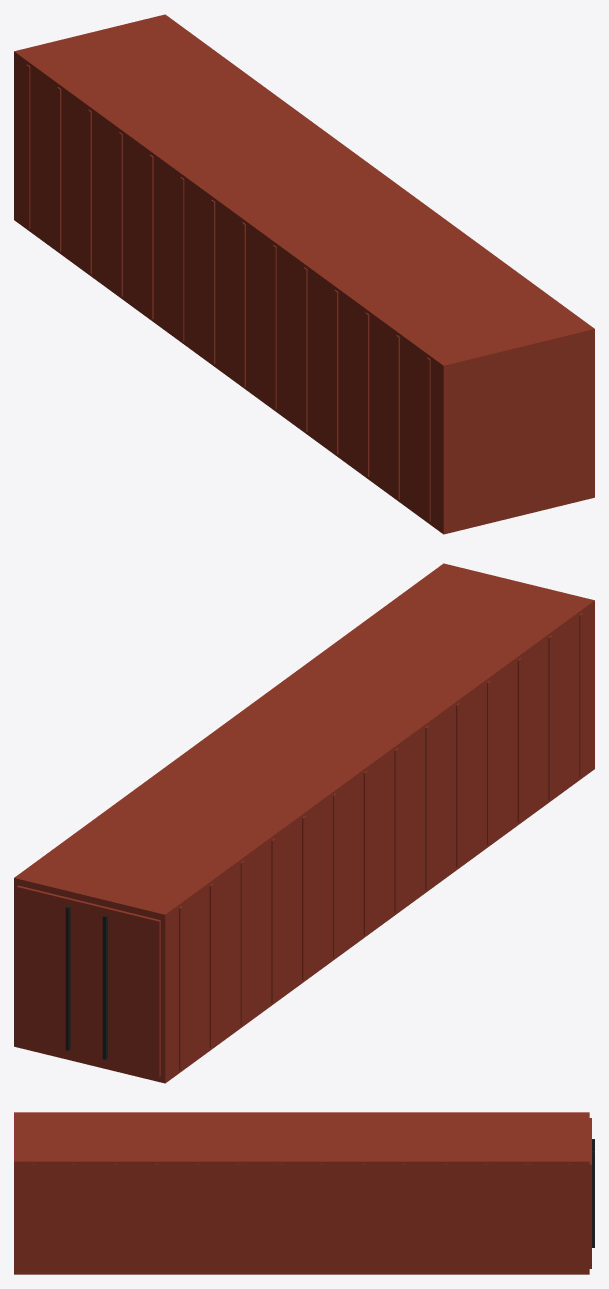
File: Container1.fbx
3 views of the same model, one above another, from view 1: azimuth 30°, elevation 25°; view 2: azimuth 150°, elevation 25°; view 3: azimuth 270°, elevation 25° (orthographic). The views are drawn at different scales.
Parts seen in each view (by area): view 1: Box, Rib10, Rib13, Rib5, Rib8, Rib0, Rib12, Rib2, Rib3, Rib4, Rib7, Rib9; view 2: Box, Doors, Lock1, Lock-1, Rib0, Rib4, Rib6, Rib10, Rib11, Rib12, Rib2, Rib5 (+3 smaller); view 3: Box, Rib1, Rib12, Rib13, Rib2, Rib5, Rib6, Rib8, Rib9, Doors, Rib0, Rib10 (+5 smaller).
Part boxes in pixels (x1,y1,x2,y2): Box: [14, 14, 594, 534]; Rib10: [118, 132, 122, 296]; Rib13: [26, 64, 30, 228]; Rib5: [272, 245, 276, 409]; Rib8: [180, 177, 184, 341]; Rib0: [426, 357, 430, 521]; Rib12: [57, 87, 61, 251]; Rib2: [365, 312, 369, 476]; Rib3: [334, 290, 338, 454]; Rib4: [303, 267, 307, 431]; Rib7: [211, 200, 215, 364]; Rib9: [149, 154, 153, 319]; Box: [14, 563, 594, 1083]; Doors: [16, 885, 160, 1077]; Lock1: [65, 906, 70, 1050]; Lock-1: [102, 915, 107, 1059]; Rib0: [579, 613, 583, 777]; Rib4: [456, 703, 460, 867]; Rib6: [394, 748, 398, 912]; Rib10: [271, 838, 275, 1002]; Rib11: [240, 861, 244, 1025]; Rib12: [209, 883, 213, 1047]; Rib2: [517, 658, 521, 822]; Rib5: [425, 725, 429, 890]; Box: [14, 1112, 589, 1274]; Rib1: [72, 1164, 76, 1272]; Rib12: [526, 1164, 530, 1272]; Rib13: [567, 1164, 571, 1272]; Rib2: [113, 1164, 117, 1272]; Rib5: [237, 1164, 241, 1272]; Rib6: [278, 1164, 282, 1272]; Rib8: [361, 1164, 365, 1272]; Rib9: [402, 1164, 406, 1272]; Doors: [589, 1118, 591, 1268]; Rib0: [31, 1164, 34, 1272]; Rib10: [444, 1164, 447, 1272].
Size of the model in its own units: 248 by 1211 by 260.
